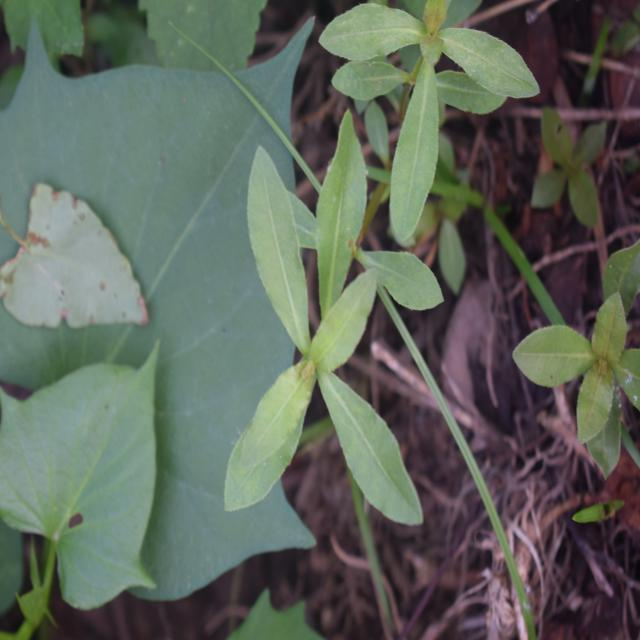Alligatorweed: (208, 85, 468, 538), (346, 0, 509, 252)
